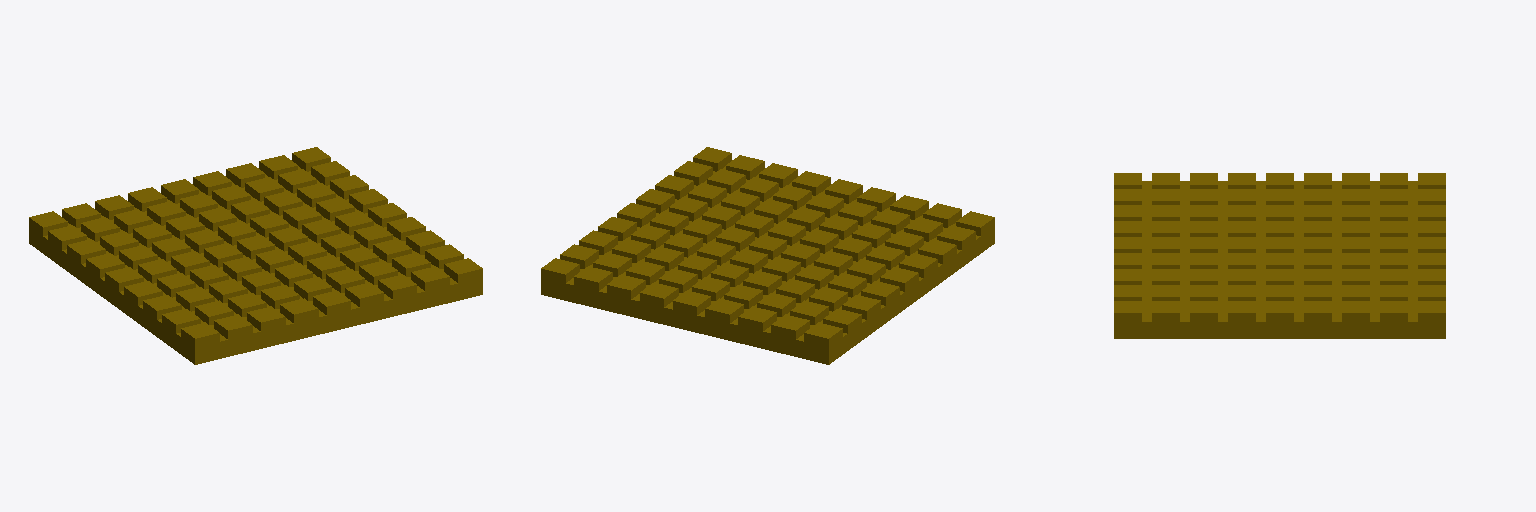
Rendered from board5.obj.
The picture shows the model from 3 angles: view 1: azimuth 30°, elevation 25°; view 2: azimuth 150°, elevation 25°; view 3: azimuth 270°, elevation 25°; orthographic projection.
Visible parts, largest first — view 1: Box020; view 2: Box020; view 3: Box020.
Part boxes in pixels (left/top/right/bottom): Box020: left=29, top=147, right=482, bottom=364; Box020: left=541, top=147, right=994, bottom=364; Box020: left=1114, top=173, right=1445, bottom=338.
Size of the model in its own units: 260 by 22.63 by 260.